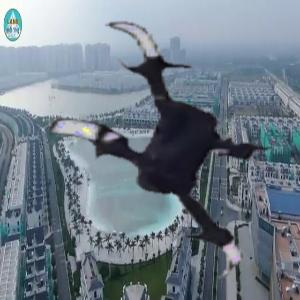drone: (11, 11, 294, 294)
